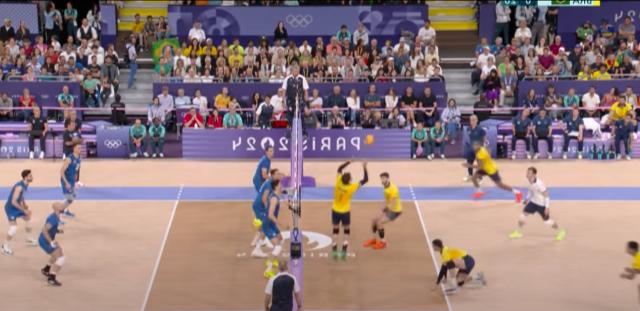Levantador: (326, 153, 368, 261), (253, 143, 275, 189)
Libero: (520, 161, 554, 228)
bola: (365, 137, 373, 147)
